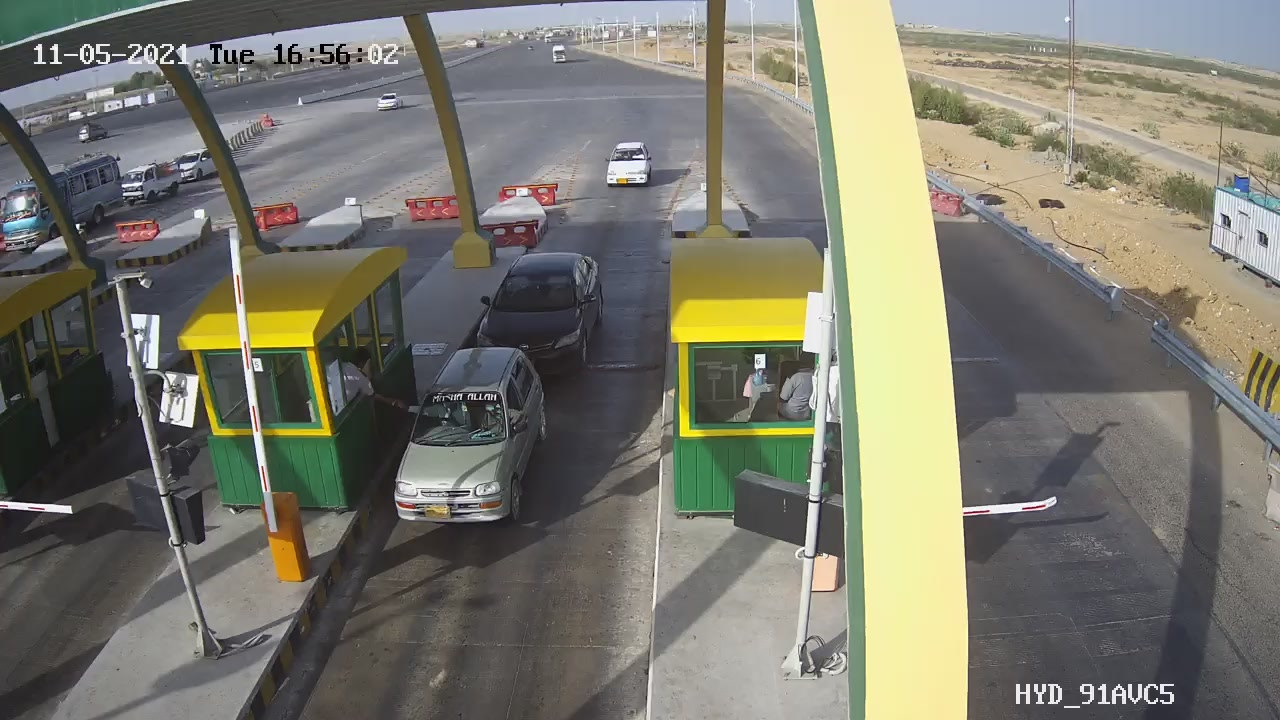F1: (378, 334, 561, 545), (462, 237, 620, 403)
